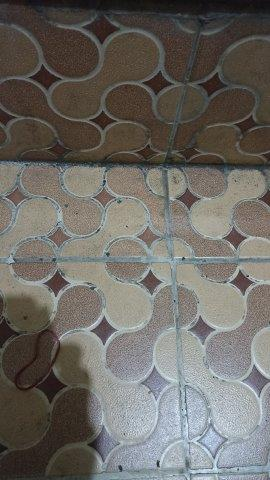karet: (16, 329, 61, 391)
